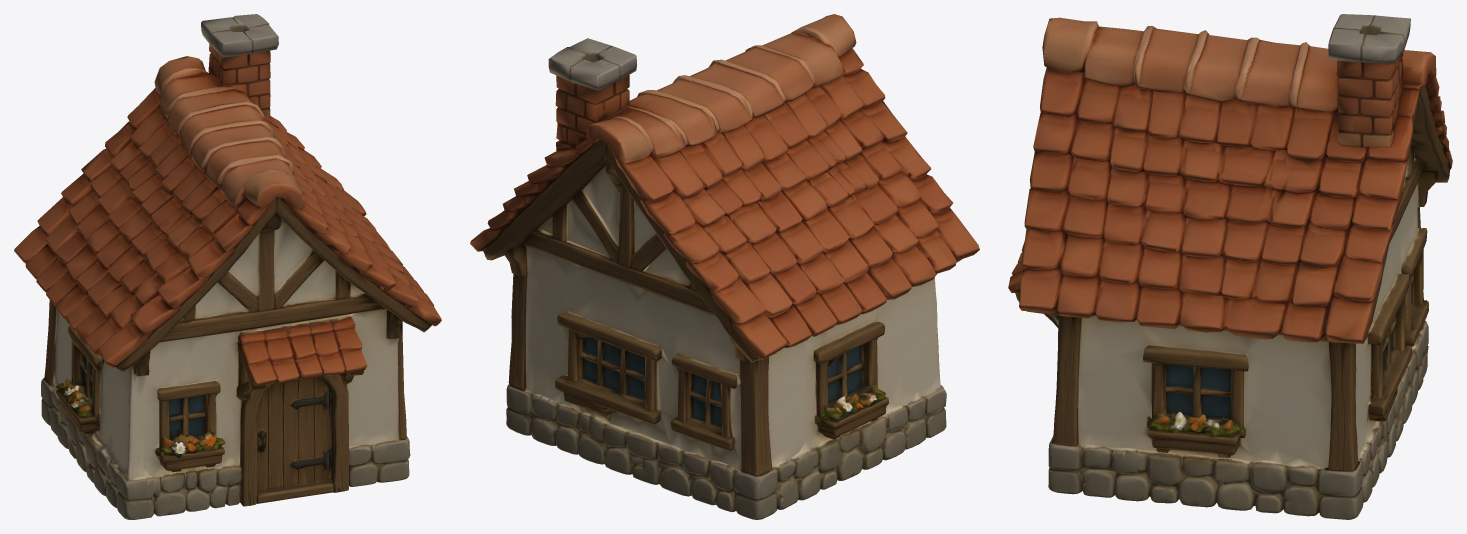
Rendered from house_a.glb.
3 views of the same model, side by side, from view 1: azimuth 30°, elevation 25°; view 2: azimuth 150°, elevation 25°; view 3: azimuth 270°, elevation 25° (orthographic). The views are drawn at different scales.
Parts seen in each view (by area): view 1: tripo_node_054b922c-8801-42fc-bb22-aeac9c91b4b4; view 2: tripo_node_054b922c-8801-42fc-bb22-aeac9c91b4b4; view 3: tripo_node_054b922c-8801-42fc-bb22-aeac9c91b4b4.
Part boxes in pixels (<box>): tripo_node_054b922c-8801-42fc-bb22-aeac9c91b4b4: <box>14,14,441,519</box>; tripo_node_054b922c-8801-42fc-bb22-aeac9c91b4b4: <box>470,14,979,519</box>; tripo_node_054b922c-8801-42fc-bb22-aeac9c91b4b4: <box>1008,14,1452,519</box>.
Size of the model in its own units: 0.9803 by 0.9536 by 0.8713.
1 material, 1 textured.
